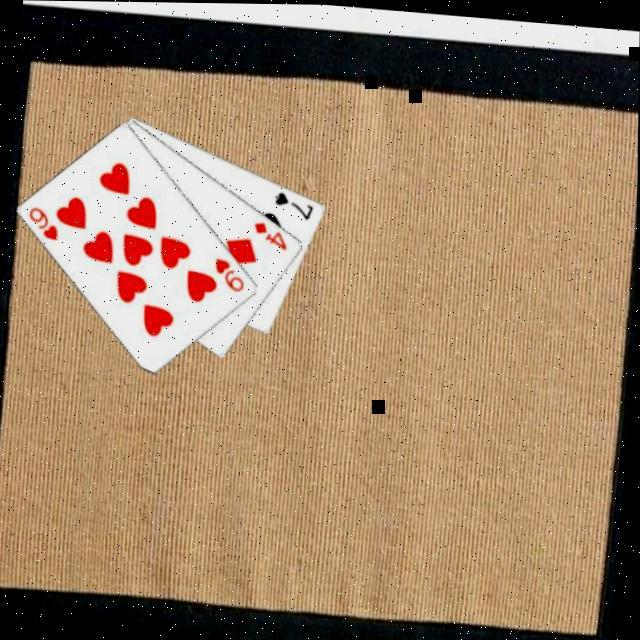4D: (248, 218, 290, 253)
7S: (268, 189, 316, 225)
9H: (21, 204, 62, 245), (209, 255, 248, 295)
